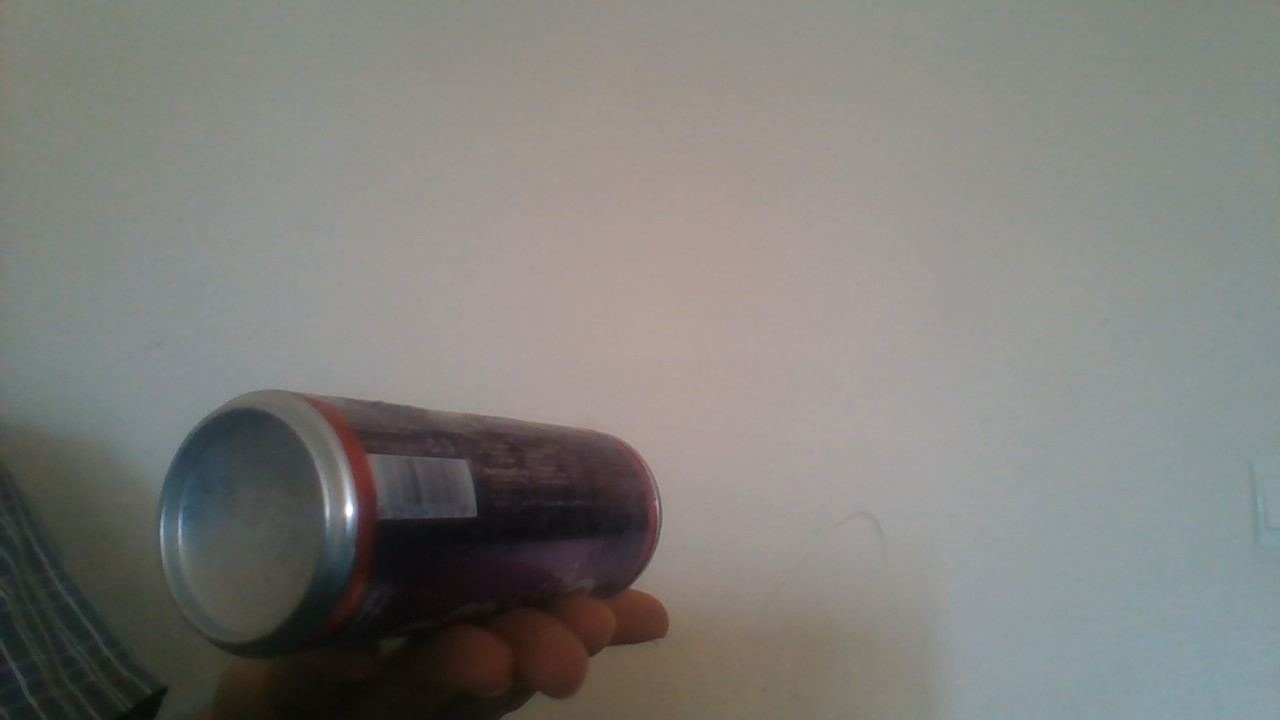can: (154, 382, 669, 659)
